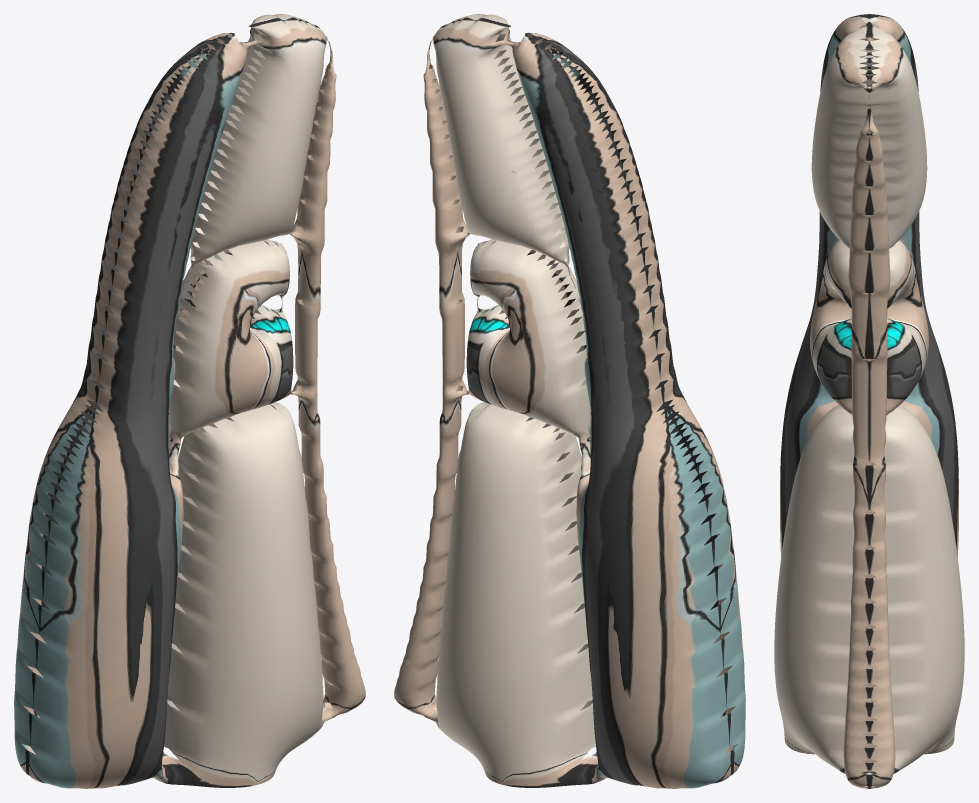
Rendered from window_pylon.glb.
The picture shows the model from 3 angles, left to right: view 1: azimuth 30°, elevation 25°; view 2: azimuth 150°, elevation 25°; view 3: azimuth 270°, elevation 25°; orthographic projection. The views are drawn at different scales.
Visible parts, largest first — view 1: window_pylon; view 2: window_pylon; view 3: window_pylon.
Part boxes in pixels (box(x1,y1,x2,y2)): window_pylon: box(14, 14, 365, 788); window_pylon: box(394, 14, 745, 788); window_pylon: box(774, 14, 964, 788).
Bounding box in the file's own units: 0.9777 × 2.02 × 0.4733.
Materials: 1 (1 with a texture image).
